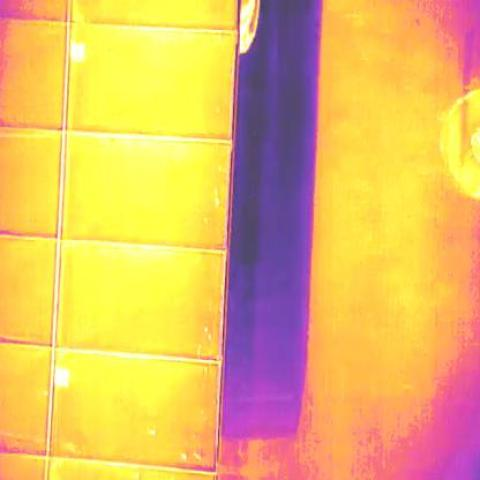fault: (68, 41, 90, 64), (52, 368, 73, 387)
